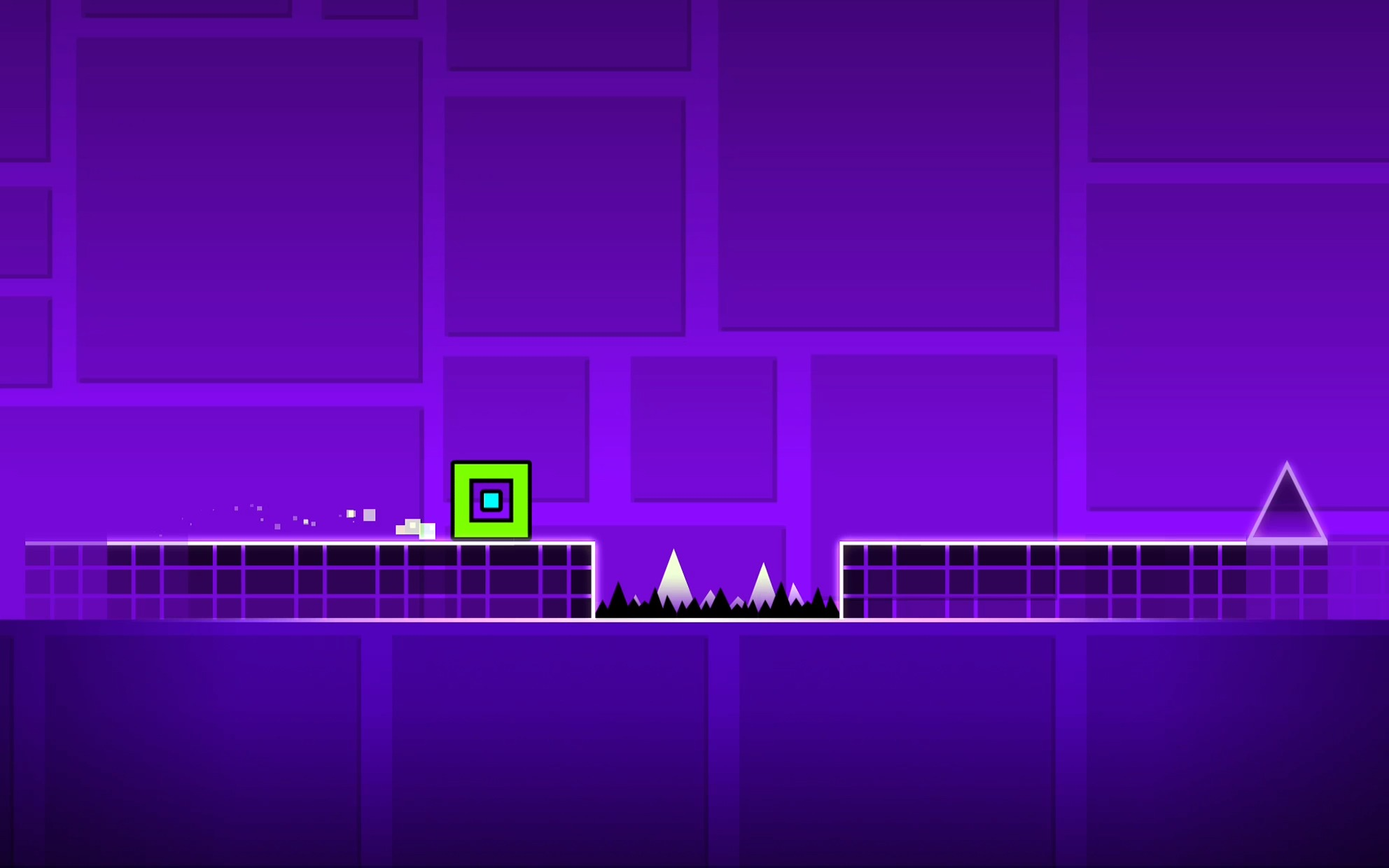Block2: (18, 542, 592, 618), (844, 540, 1383, 617)
Player: (450, 461, 531, 539)
Spike: (1249, 463, 1327, 539)
Spike3: (596, 584, 839, 622)
